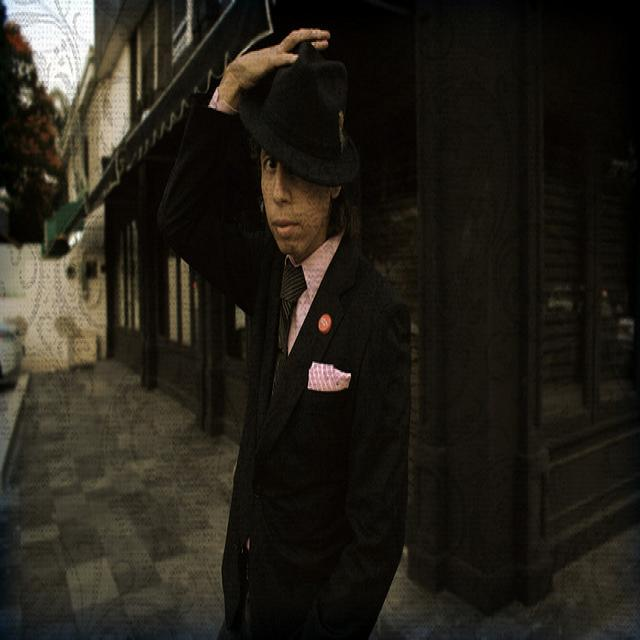Vehicle: (0, 320, 24, 390)
